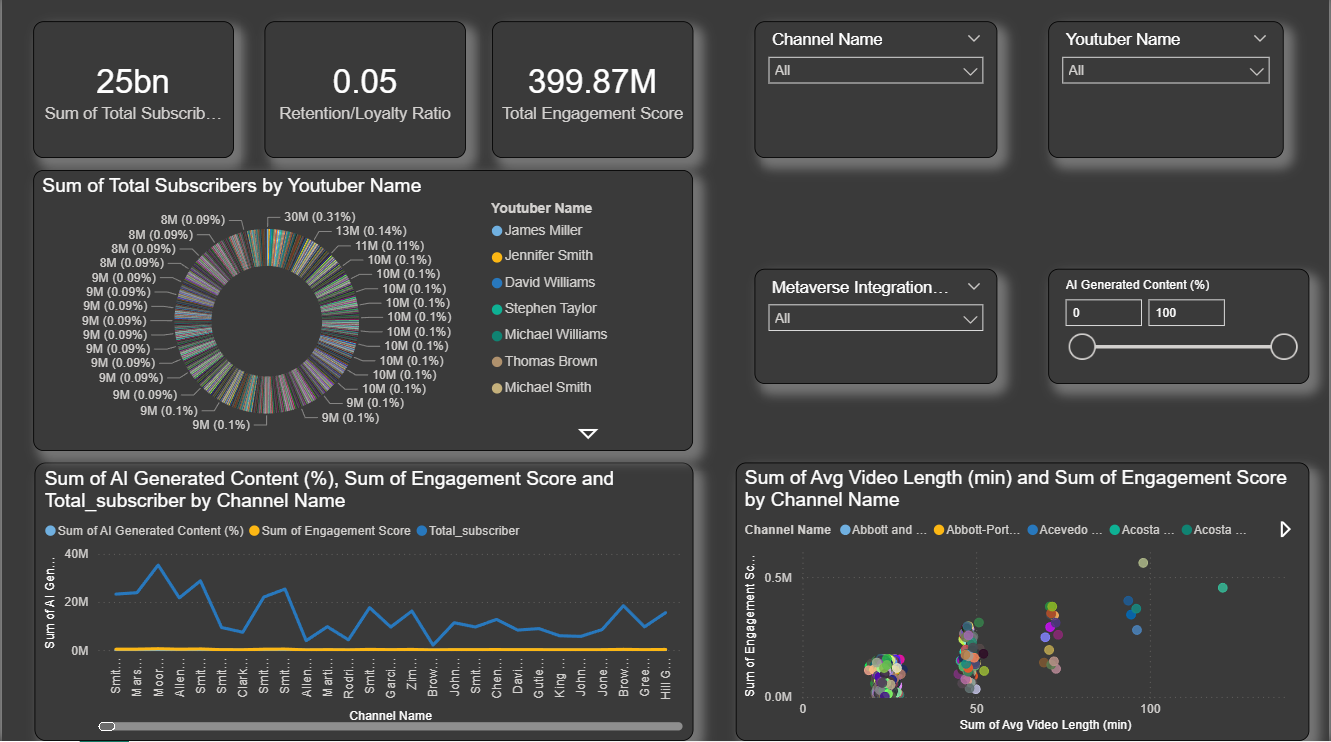

What the dashboard file says about the page in this screenshot:
{"tool":"powerbi","page":{"name":" NeuroTube Nexus – Futuristic YouTube Analytics Dashboard","canvas":[1280,720],"ordinal":0},"visuals":[{"type":"card","fields":{"Values":["youtube_2025_dataset_202504061614.Total Subscribers"]},"box":[30.6,25.7,193.2,132.1],"z":0},{"type":"card","fields":{"Values":["youtube_2025_dataset_202504061614.Total Engagement Score"]},"box":[473.2,25.7,194.4,132.1],"z":1000},{"type":"card","fields":{"Values":["youtube_2025_dataset_202504061614.Retention/Loyalty Ratio"]},"box":[253.1,25.7,194.4,132.1],"z":2000},{"type":"lineChart","fields":{"Y":["youtube_2025_dataset_202504061614.AI Generated Content (%)","youtube_2025_dataset_202504061614.Engagement Score","youtube_2025_dataset_202504061614.Total_subscriber"],"Category":["youtube_2025_dataset_202504061614.Channel Name"]},"box":[31.8,451.2,635.9,269],"z":2001},{"type":"donutChart","fields":{"Category":["youtube_2025_dataset_202504061614.Youtuber Name"],"Y":["youtube_2025_dataset_202504061614.Total Subscribers"]},"box":[30.6,168.8,637.1,271.5],"z":2002},{"type":"scatterChart","fields":{"X":["youtube_2025_dataset_202504061614.Avg Video Length (min)"],"Y":["youtube_2025_dataset_202504061614.Engagement Score"],"Series":["youtube_2025_dataset_202504061614.Channel Name"]},"box":[708,451.2,553.9,269],"z":2003},{"type":"slicer","fields":{"Values":["youtube_2025_dataset_202504061614.Channel Name"]},"box":[726.4,25.7,234.8,132.1],"z":2004},{"type":"slicer","fields":{"Values":["youtube_2025_dataset_202504061614.Youtuber Name"]},"box":[1010.1,25.7,227.4,132.1],"z":2005},{"type":"slicer","fields":{"Values":["youtube_2025_dataset_202504061614.Metaverse Integration Level"]},"box":[726.4,264.1,234.8,111.3],"z":2006},{"type":"slicer","fields":{"Values":["youtube_2025_dataset_202504061614.AI Generated Content (%)"]},"box":[1010.1,264.1,251.9,111.3],"z":2007}]}

Visuals, with their boxes in screenshot pixels (x1, y1, x2, y2), scaled from the page's 1280x720 canvas onto the 1331x742 screenshot:
card - youtube_2025_dataset_202504061614.Total Subscribers: select_region(32, 26, 233, 163)
card - youtube_2025_dataset_202504061614.Total Engagement Score: select_region(492, 26, 694, 163)
card - youtube_2025_dataset_202504061614.Retention/Loyalty Ratio: select_region(263, 26, 465, 163)
lineChart - youtube_2025_dataset_202504061614.AI Generated Content (%) x youtube_2025_dataset_202504061614.Engagement Score: select_region(33, 465, 694, 741)
donutChart - youtube_2025_dataset_202504061614.Youtuber Name x youtube_2025_dataset_202504061614.Total Subscribers: select_region(32, 174, 694, 454)
scatterChart - youtube_2025_dataset_202504061614.Avg Video Length (min) x youtube_2025_dataset_202504061614.Engagement Score: select_region(736, 465, 1312, 741)
slicer - youtube_2025_dataset_202504061614.Channel Name: select_region(755, 26, 999, 163)
slicer - youtube_2025_dataset_202504061614.Youtuber Name: select_region(1050, 26, 1287, 163)
slicer - youtube_2025_dataset_202504061614.Metaverse Integration Level: select_region(755, 272, 999, 387)
slicer - youtube_2025_dataset_202504061614.AI Generated Content (%): select_region(1050, 272, 1312, 387)
